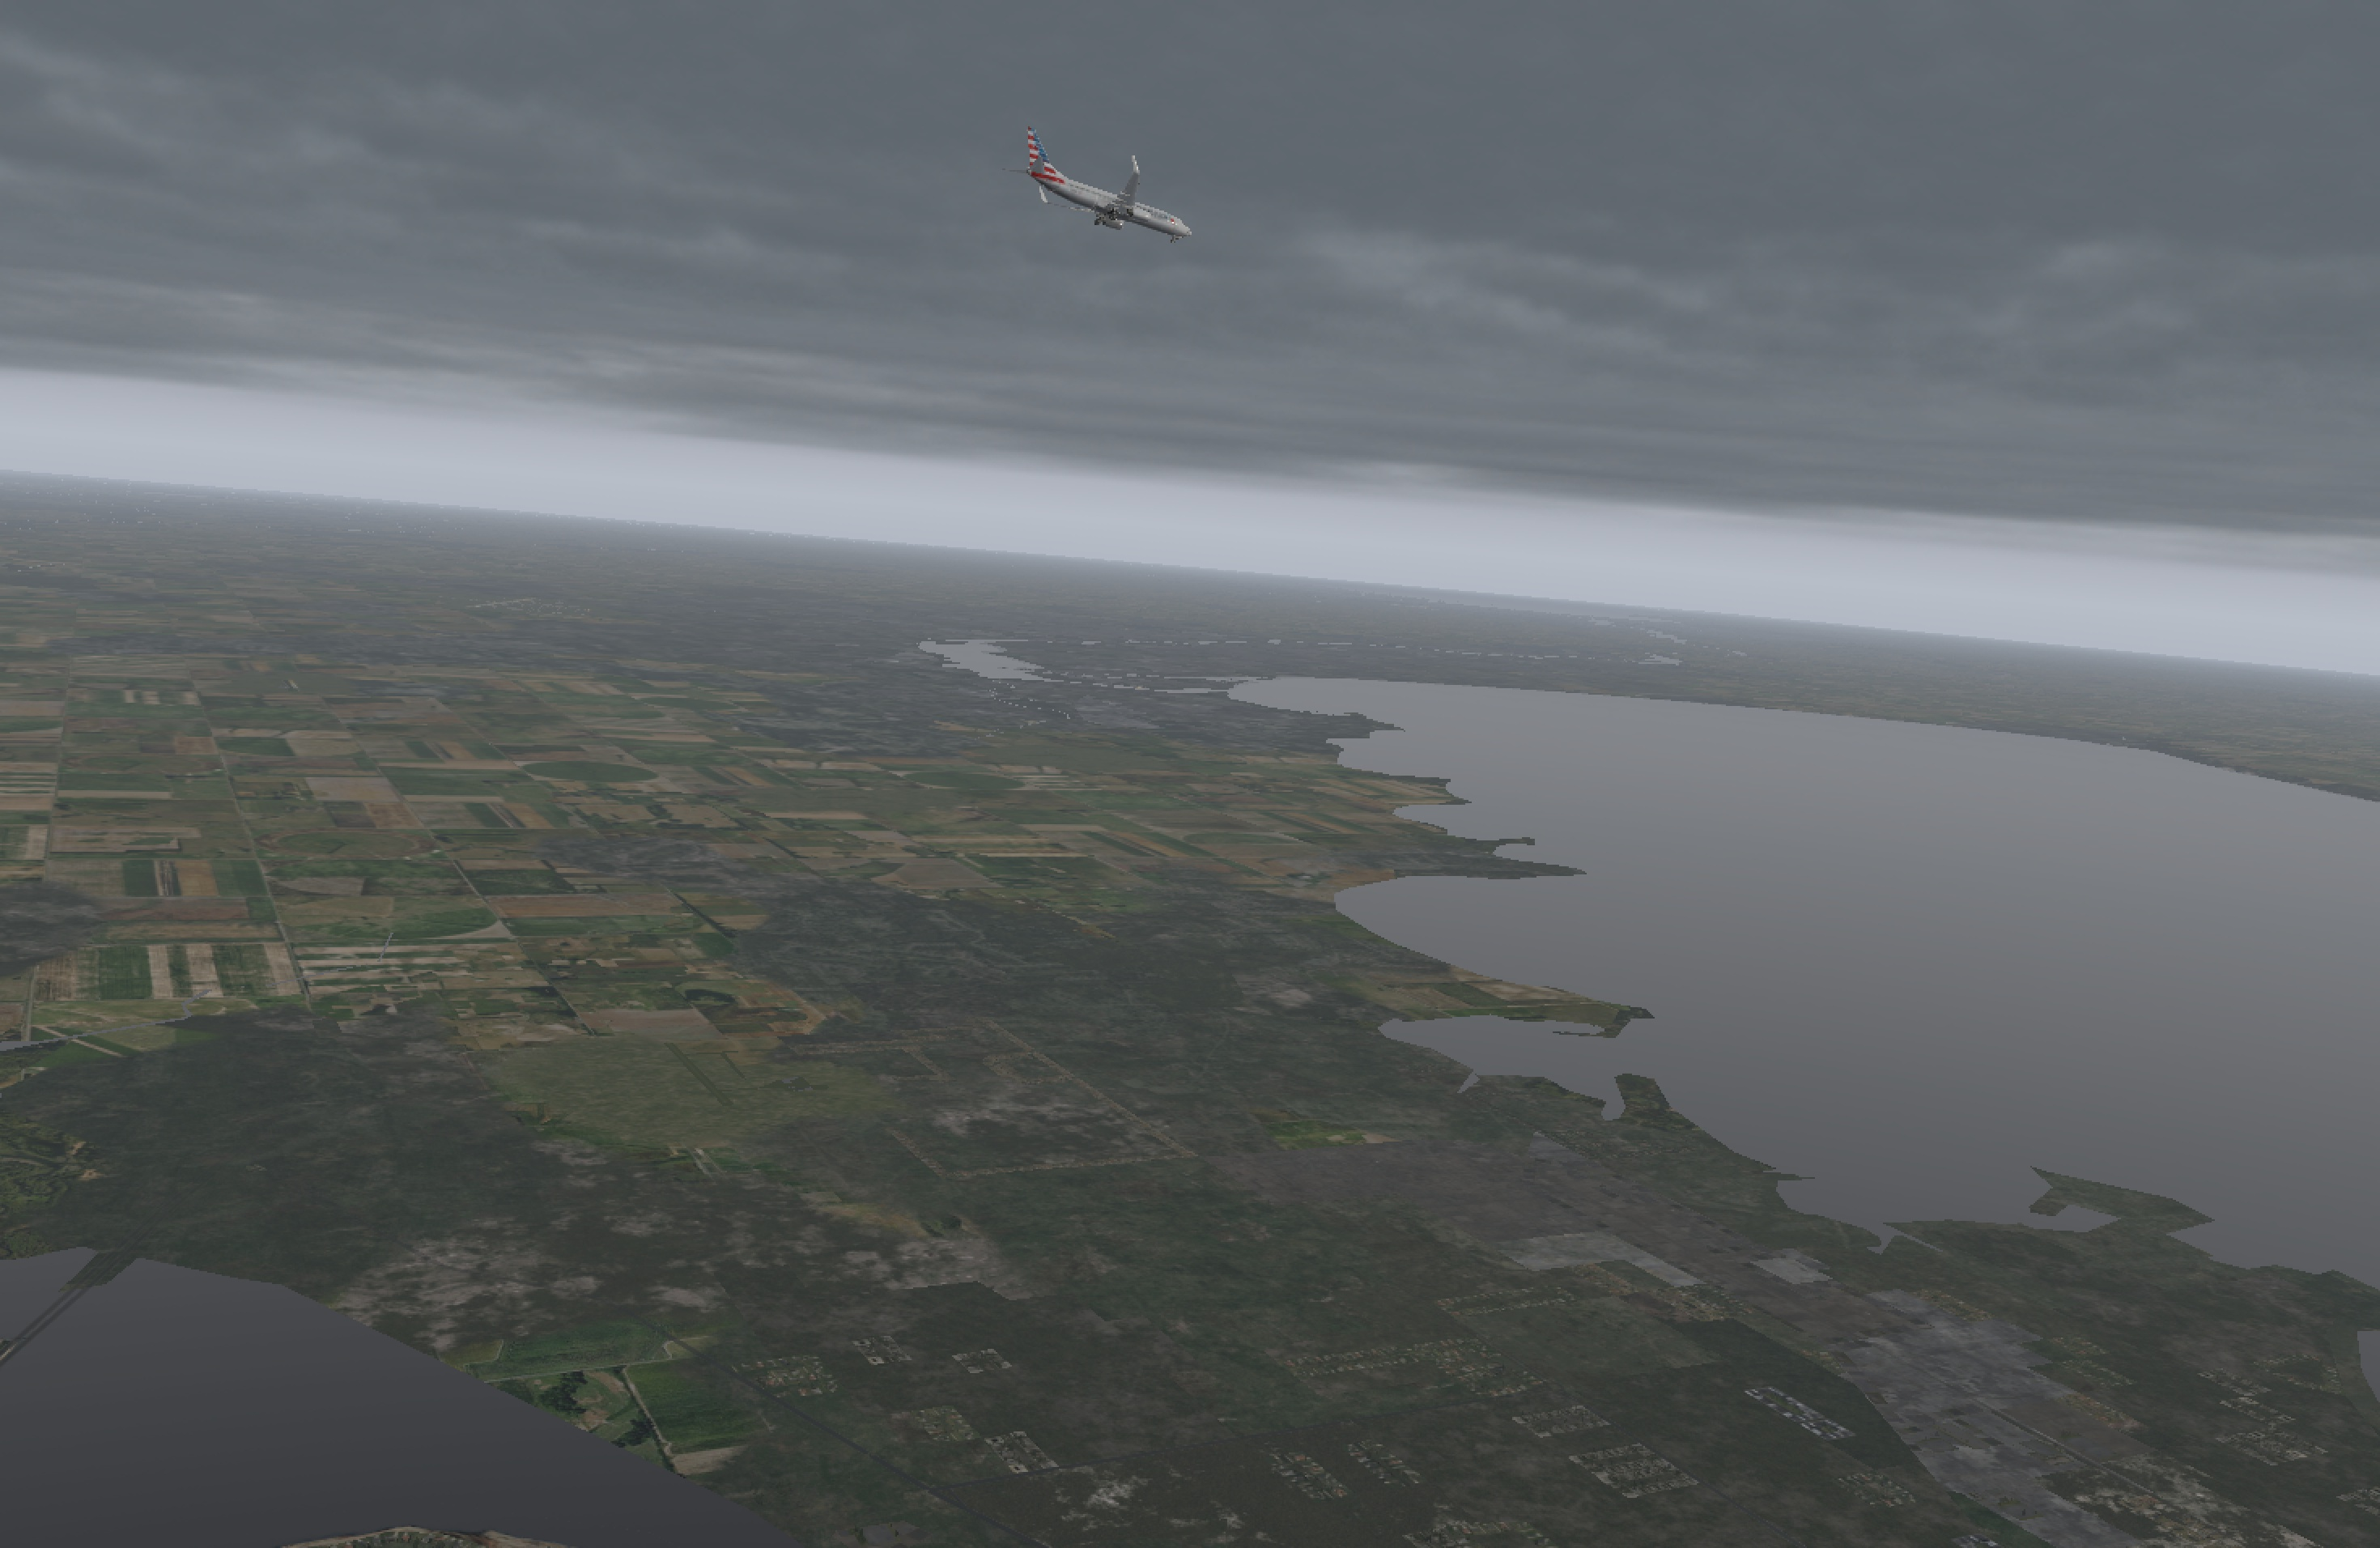aircraft: (1015, 172, 1213, 246)
